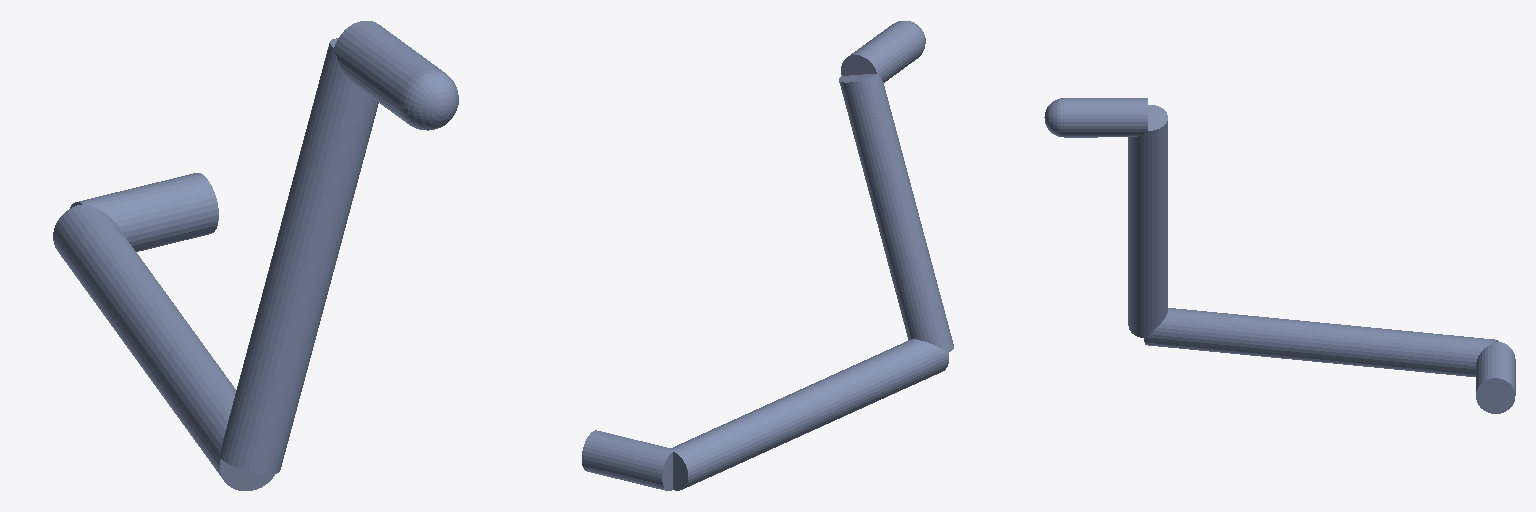
URDF robot description (estun_s10_140):
<?xml version="1.0"?>
<robot name="estun_s10_140">
  <!-- Hybrid: REAL colored meshes for base_link+link_1 (from CS0/CS1 STEP exports), primitives for link_2..6 pending export. Exact calibrated-DH kinematics. Z-up (viewer applies rotation.x=-90). -->
  <material name="mp"><color rgba="0.55 0.6 0.72 1"/></material>
  <link name="base_link">
    <visual><origin xyz="0.000000 0.000000 0.000000" rpy="0.000000 -0.000000 0.000000"/>
      <geometry><mesh filename="links/link0_base.glb"/></geometry></visual>
  </link>
  <link name="link_1">
    <visual><origin xyz="0.000000 0.000000 -0.186000" rpy="0.000000 -0.000000 0.000000"/>
      <geometry><mesh filename="links/link1_shoulder.glb"/></geometry></visual>
  </link>
  <link name="link_2"><visual><origin xyz="0.00000 -0.08750 -0.00000" rpy="1.57080 -0.00000 0.00000"/><geometry><cylinder radius="0.04" length="0.17500"/></geometry><material name="mp"/></visual></link>
  <link name="link_3"><visual><origin xyz="0.35042 0.00000 -0.08075" rpy="3.14159 1.34431 3.14159"/><geometry><cylinder radius="0.04" length="0.71921"/></geometry><material name="mp"/></visual></link>
  <link name="link_4"><visual><origin xyz="0.26909 0.00000 0.08066" rpy="-0.00000 1.27958 -0.00000"/><geometry><cylinder radius="0.04" length="0.56184"/></geometry><material name="mp"/></visual></link>
  <link name="link_5"><visual><origin xyz="0.00000 -0.08475 0.00000" rpy="1.57080 -0.00000 0.00000"/><geometry><cylinder radius="0.04" length="0.16950"/></geometry><material name="mp"/></visual></link>
  <link name="link_6"><visual><origin xyz="0 0 0"/><geometry><sphere radius="0.04"/></geometry><material name="mp"/></visual></link>
  <link name="tool0"/>
  <joint name="joint_1" type="revolute">
    <parent link="base_link"/><child link="link_1"/>
    <origin xyz="0.000000 0.000000 0.186000" rpy="0.000000 -0.000000 0.000000"/>
    <axis xyz="0 0 1"/><limit lower="-6.2832" upper="6.2832" effort="200" velocity="3.14"/>
  </joint>
  <joint name="joint_2" type="revolute">
    <parent link="link_1"/><child link="link_2"/>
    <origin xyz="0.000000 0.000000 0.220052" rpy="0.000000 -0.000000 -1.570796"/>
    <axis xyz="0 0 1"/><limit lower="-6.2832" upper="6.2832" effort="200" velocity="3.14"/>
  </joint>
  <joint name="joint_3" type="revolute">
    <parent link="link_2"/><child link="link_3"/>
    <origin xyz="0.000000 -0.175000 -0.000000" rpy="-1.570796 -0.000000 0.000000"/>
    <axis xyz="0 0 1"/><limit lower="-2.7925" upper="2.7925" effort="200" velocity="3.14"/>
  </joint>
  <joint name="joint_4" type="revolute">
    <parent link="link_3"/><child link="link_4"/>
    <origin xyz="0.700845 0.000000 -0.161500" rpy="0.000000 -0.000000 -1.570796"/>
    <axis xyz="0 0 1"/><limit lower="-6.2832" upper="6.2832" effort="200" velocity="3.14"/>
  </joint>
  <joint name="joint_5" type="revolute">
    <parent link="link_4"/><child link="link_5"/>
    <origin xyz="0.538179 0.000000 0.161314" rpy="3.141593 -0.000000 0.000000"/>
    <axis xyz="0 0 1"/><limit lower="-6.2832" upper="6.2832" effort="200" velocity="3.14"/>
  </joint>
  <joint name="joint_6" type="revolute">
    <parent link="link_5"/><child link="link_6"/>
    <origin xyz="0.000000 -0.169500 0.000000" rpy="1.570796 -0.000000 0.000000"/>
    <axis xyz="0 0 1"/><limit lower="-6.2832" upper="6.2832" effort="200" velocity="3.14"/>
  </joint>
  <joint name="flange_to_tool0" type="fixed"><parent link="link_6"/><child link="tool0"/><origin xyz="0.000000 0.000000 0.000000" rpy="1.570796 -0.000000 0.000000"/></joint>
</robot>

--- Facts derived from the render (not from the file) ---
Views: 3 orthographic renders of the robot side by side, from view 1: azimuth 30°, elevation 25°; view 2: azimuth 150°, elevation 25°; view 3: azimuth 270°, elevation 25°.
Model estun_s10_140 with 8 links and 7 joints (6 revolute, 1 fixed), rooted at base_link, posed all joints at 0.
Links seen in each view (by area): view 1: link_4, link_3, link_2, link_5, link_6; view 2: link_3, link_4, link_2, link_5; view 3: link_3, link_4, link_5, link_2, link_6.
Boxes of the visible links, box(x1,y1,x2,y2) form: link_4: box(221, 38, 378, 473); link_3: box(53, 204, 274, 490); link_2: box(70, 173, 218, 251); link_5: box(334, 21, 444, 123); link_6: box(400, 70, 458, 130); link_3: box(671, 339, 948, 490); link_4: box(839, 73, 953, 352); link_2: box(582, 430, 672, 490); link_5: box(841, 22, 922, 82); link_3: box(1144, 308, 1498, 376); link_4: box(1128, 105, 1167, 338); link_5: box(1064, 98, 1147, 137); link_2: box(1476, 342, 1515, 413); link_6: box(1044, 98, 1063, 136).
Bounding box of the posed robot: 0.3755 × 0.9503 × 0.6182 m (x, y, z).
Meshes: 2 distinct files referenced, 0 mesh visuals loaded (none loaded); not drawn: 2 (reference not matched to a file when rendering).
